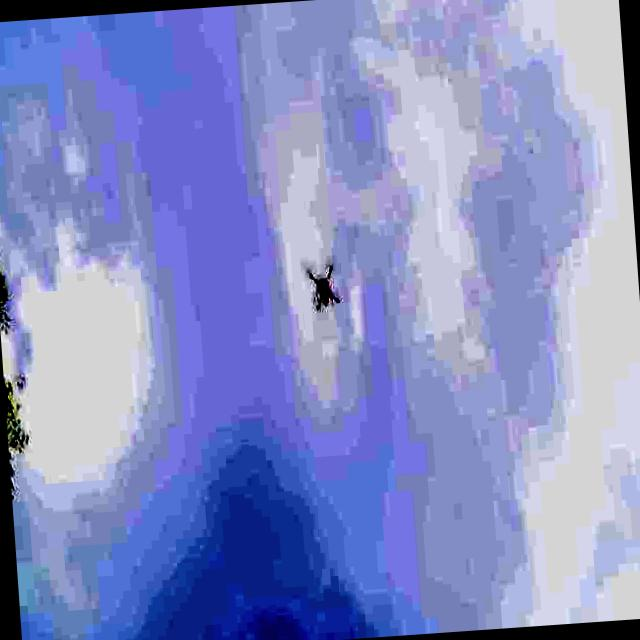drone: (302, 258, 344, 313)
